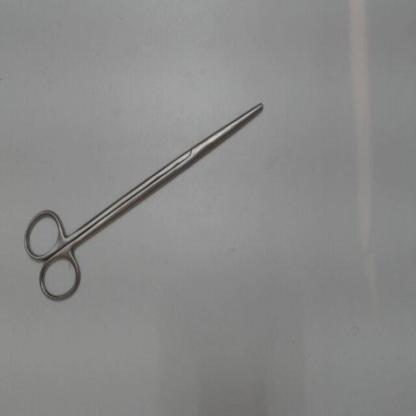9 Metzenbaum Scissors: (18, 97, 271, 314)
